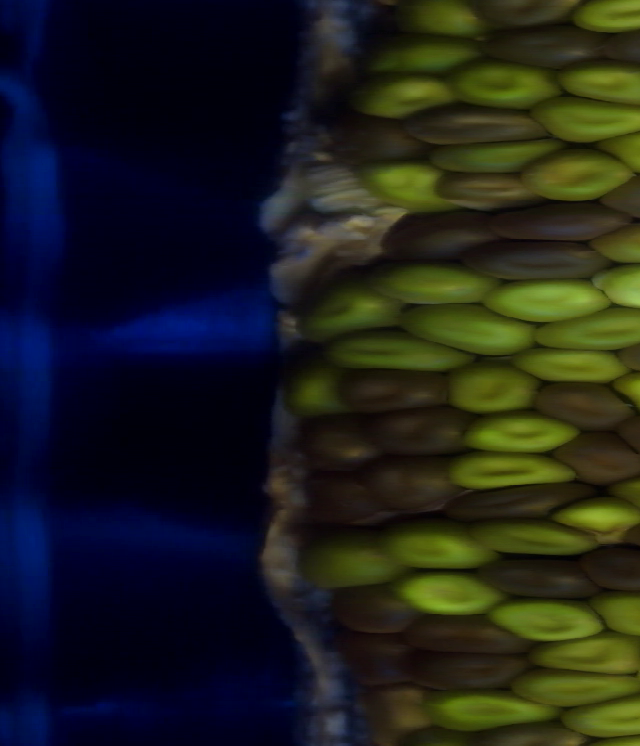fluorescent: (410, 293, 526, 357), (326, 327, 473, 375), (381, 516, 493, 572), (482, 276, 607, 325), (510, 662, 640, 709), (465, 406, 578, 457), (528, 303, 640, 353), (303, 533, 398, 591), (300, 285, 413, 333), (454, 54, 562, 104), (493, 597, 607, 644), (446, 448, 581, 487), (528, 146, 631, 196), (435, 686, 552, 730), (540, 86, 640, 137), (354, 69, 451, 119), (481, 518, 604, 557), (446, 361, 536, 413), (378, 264, 489, 306), (539, 629, 640, 675), (561, 51, 640, 108), (433, 135, 565, 169), (382, 35, 488, 76), (367, 156, 444, 211), (402, 574, 498, 614), (517, 346, 629, 380), (398, 2, 486, 45), (570, 492, 640, 545), (562, 690, 640, 737), (593, 220, 640, 269), (600, 586, 640, 643), (594, 260, 640, 306), (573, 2, 640, 33), (605, 123, 640, 174)
nonfluorescent: (475, 229, 610, 287), (479, 548, 592, 608), (500, 195, 636, 244), (481, 17, 602, 71), (408, 99, 546, 146), (334, 362, 449, 413), (368, 402, 468, 459), (307, 457, 387, 528), (389, 206, 494, 260), (412, 608, 530, 656), (555, 422, 640, 485), (367, 454, 454, 514), (458, 482, 593, 520), (414, 646, 523, 693), (324, 113, 421, 165), (535, 377, 630, 429), (338, 624, 412, 688), (330, 583, 415, 638), (433, 167, 531, 208), (302, 408, 368, 467), (584, 543, 640, 599), (348, 690, 434, 725), (609, 166, 640, 225), (600, 19, 640, 64)
